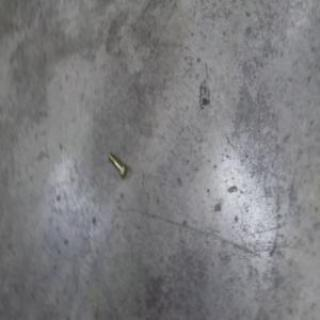Bolttrack_idkeyframe: (106, 150, 127, 179)
